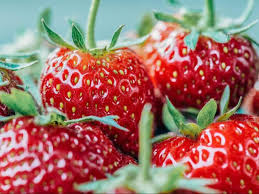ripe: (137, 15, 259, 125), (36, 36, 159, 139), (2, 107, 140, 194), (148, 110, 257, 192)
